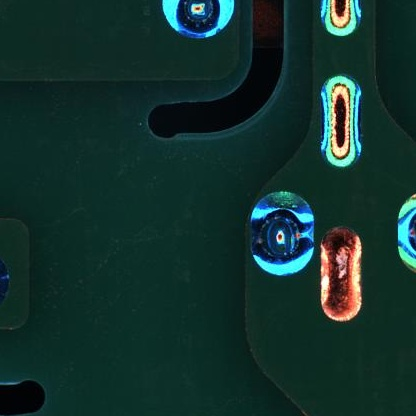spot: (248, 189, 318, 278), (158, 1, 236, 41), (395, 190, 416, 276)
